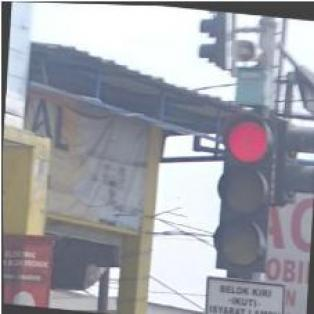Semaforo Rojo: (212, 112, 275, 273)
